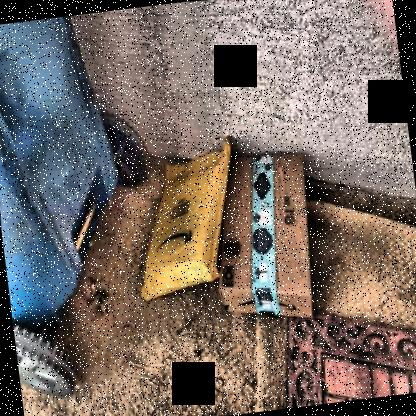no defect parcel: (198, 132, 348, 347), (123, 131, 253, 302)
